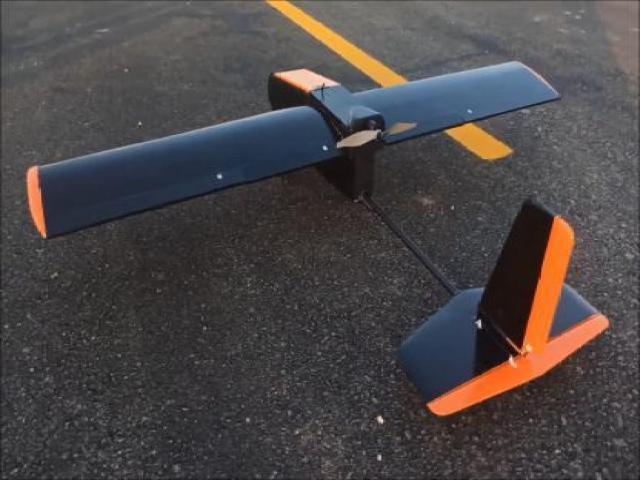uav: (16, 51, 621, 430)
